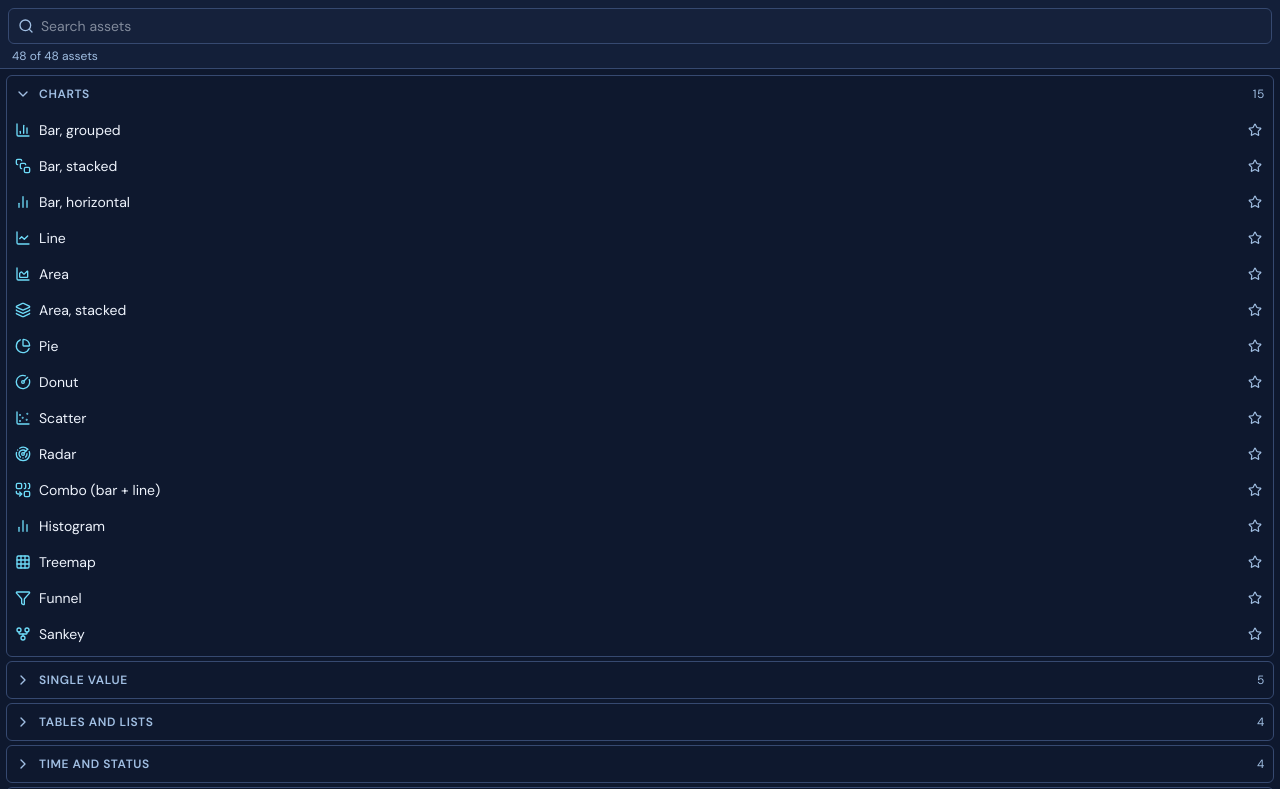
Test case: AssetBar › opens one category at a time and remembers it
Click the button "Single value 5".
click(83, 680)  # box [7,662,1273,698]
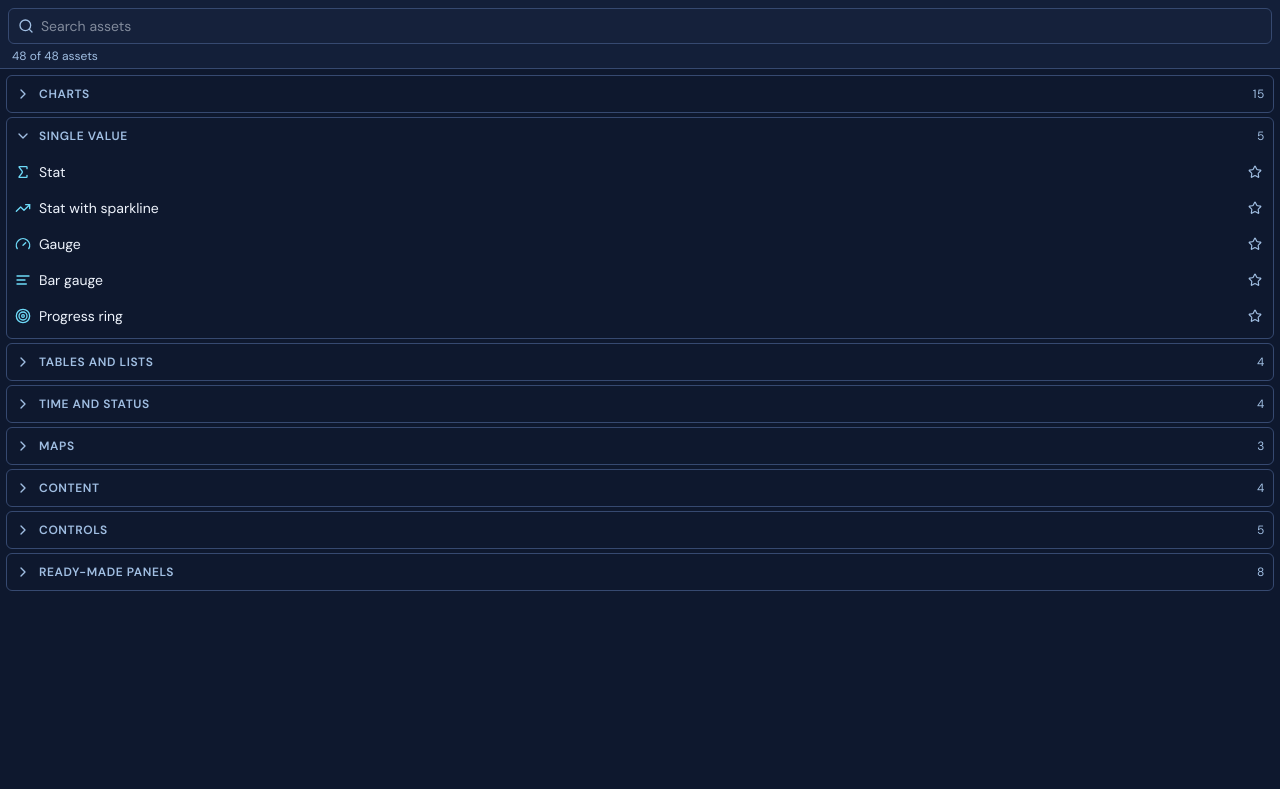
Expected: the button "Charts 15" is collapsed, [7,76,1273,112]
Expected: the button "Single value 5" is expanded, [7,118,1273,154]
